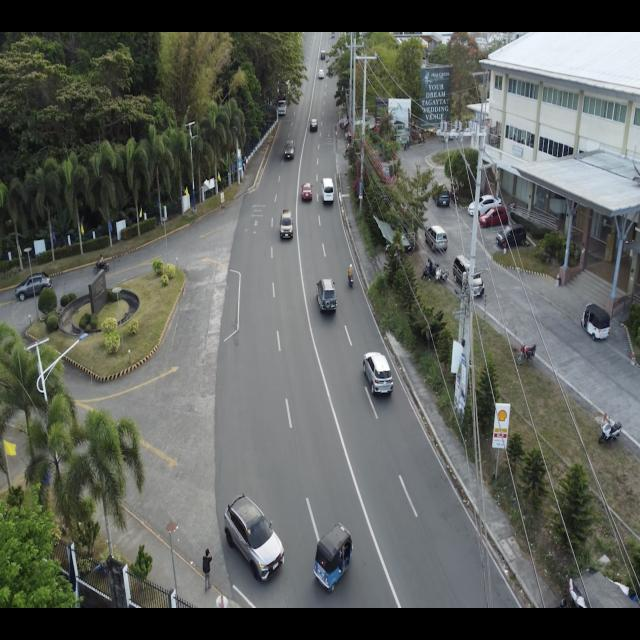bicycle: (507, 200, 517, 213)
car: (223, 492, 286, 584), (452, 254, 485, 299), (362, 351, 394, 397), (315, 277, 338, 314), (496, 223, 526, 250), (425, 224, 448, 256), (467, 195, 502, 216), (477, 206, 509, 228), (280, 208, 294, 240), (320, 177, 334, 205), (300, 181, 314, 202), (284, 140, 296, 160), (310, 118, 318, 133), (318, 69, 324, 79), (320, 50, 326, 60)
motorcycle: (14, 271, 53, 302), (597, 414, 623, 444), (516, 341, 537, 365), (421, 260, 442, 283), (94, 253, 110, 276), (434, 267, 450, 285), (346, 262, 354, 288)
person: (201, 547, 214, 592)
truck: (275, 95, 288, 117)
